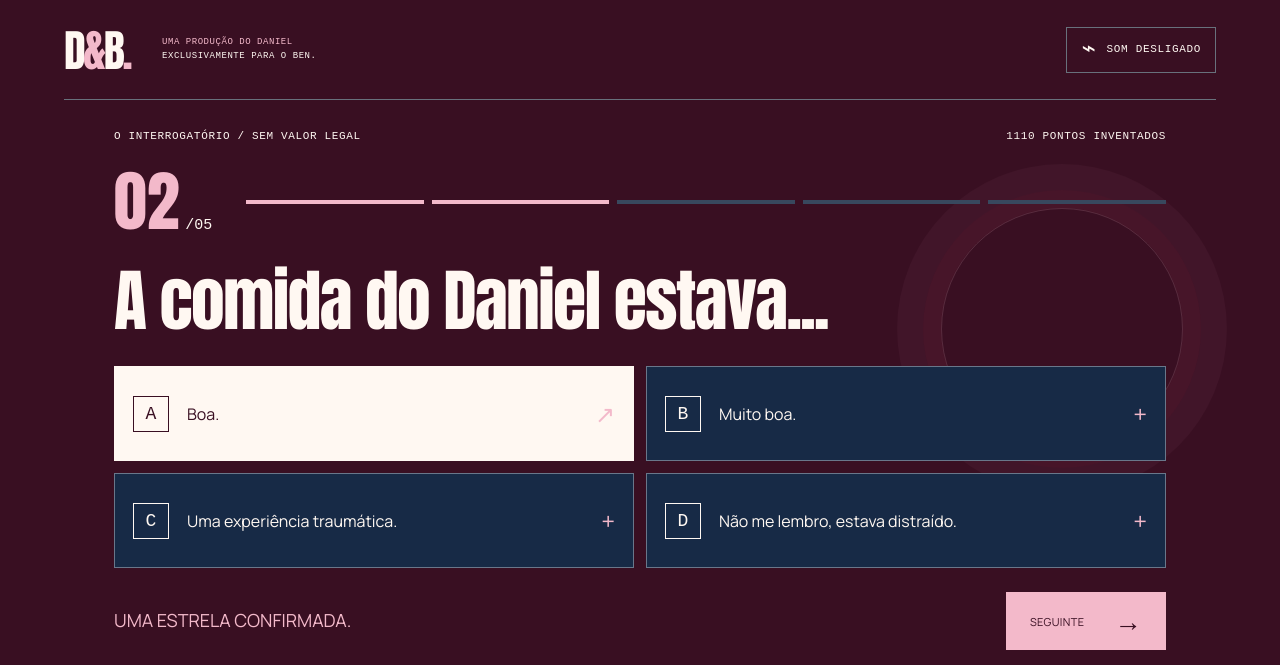
Scenario: O Interrogatório › feedback da pergunta 4, resposta 3
Earlier steps of the test are not shown.
Later steps or results of the test are not shown.
Click the button "SEGUINTE →" at (1086, 621), box [1006,592,1166,650]
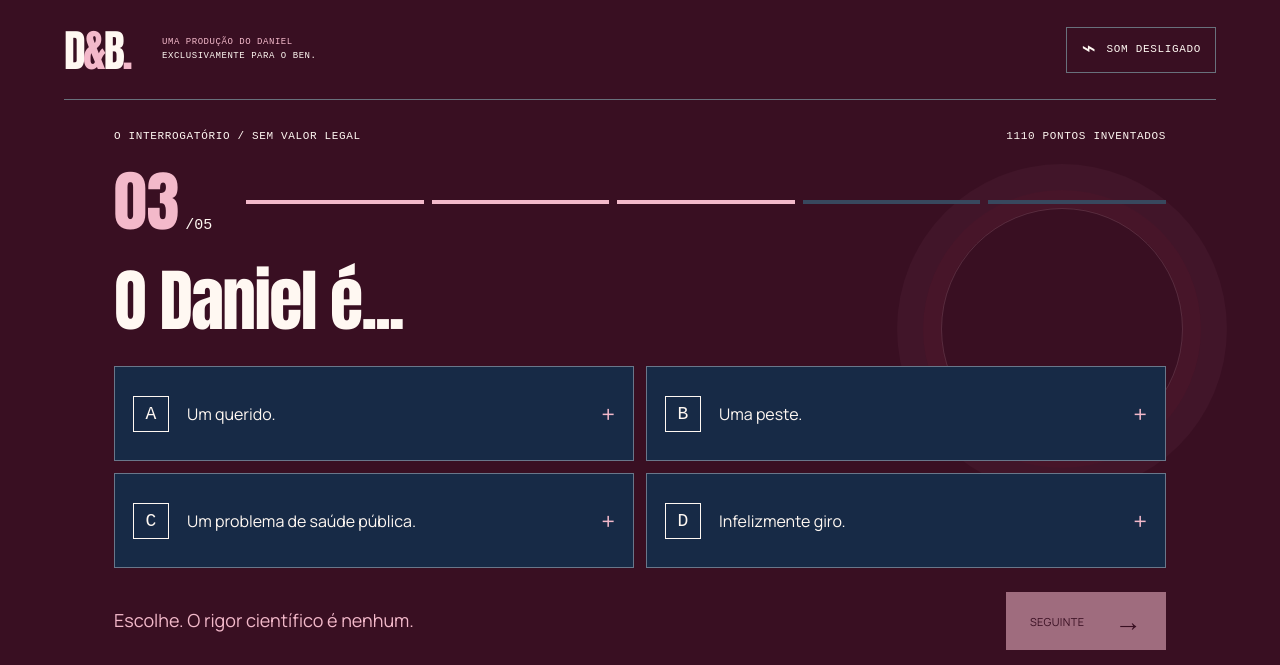
Click the radio button labelled "A Um querido. +" at (151, 414), box [114,366,634,461]
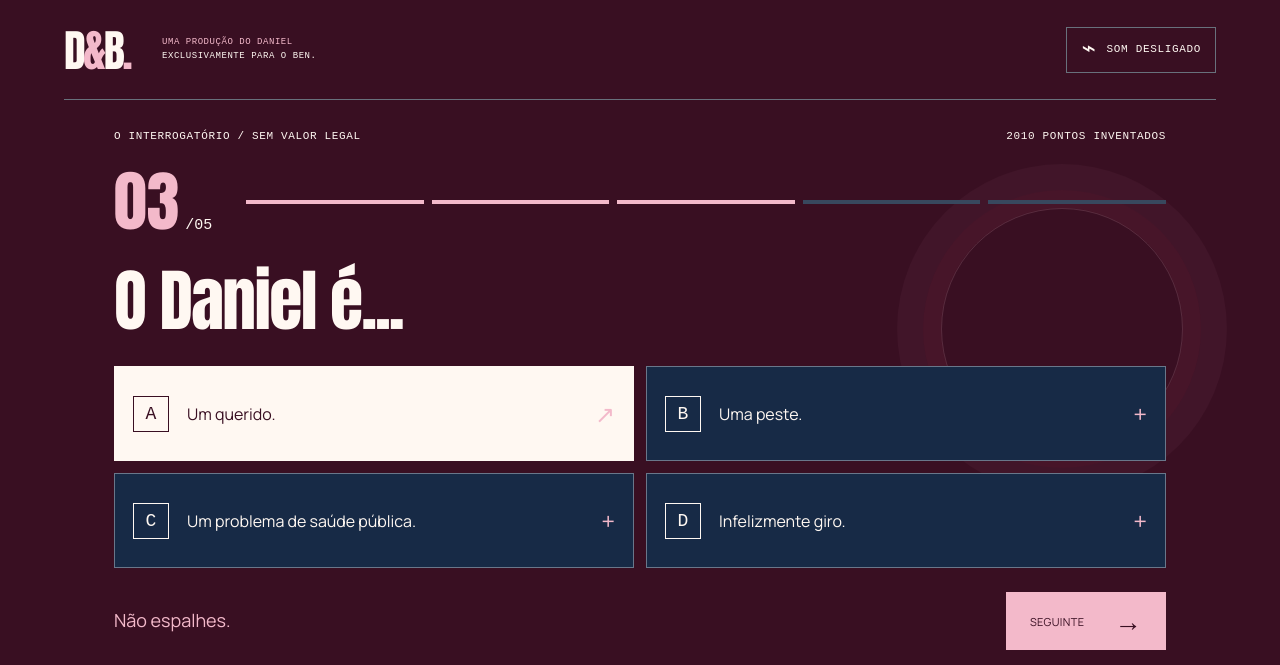
Click the button "SEGUINTE →" at (1086, 621), box [1006,592,1166,650]
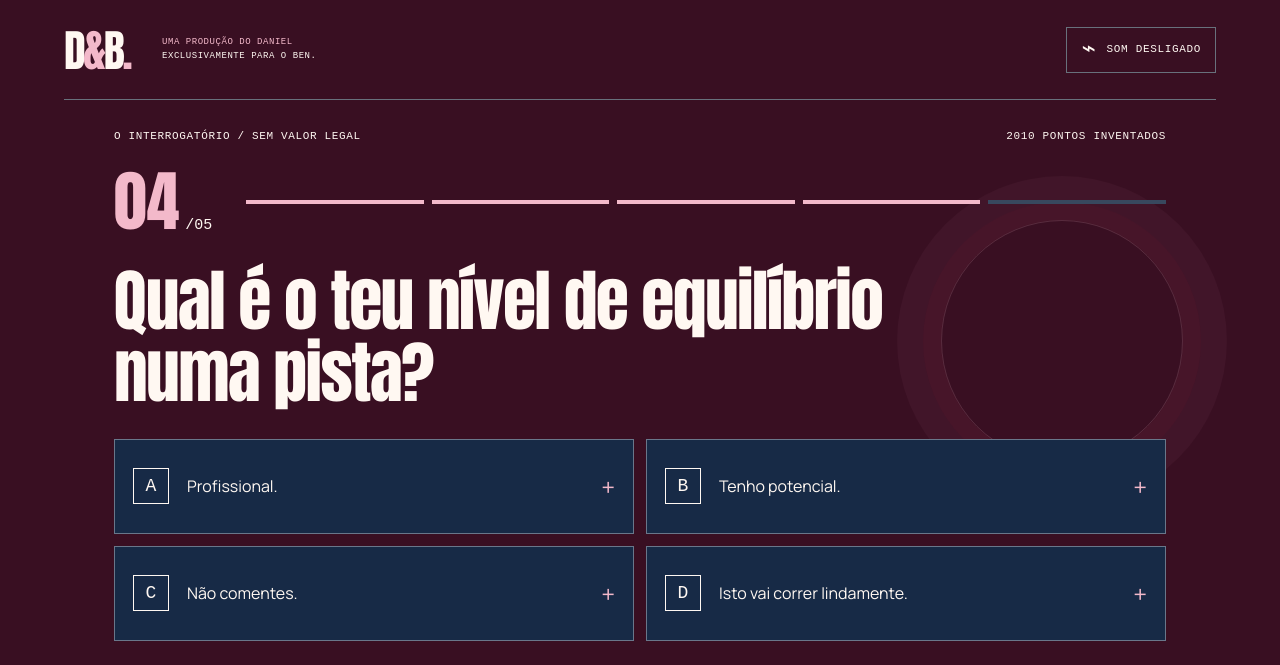
Click the radio button labelled "A Profissional. +" at (151, 486), box [114,439,634,534]
(page scrolled)
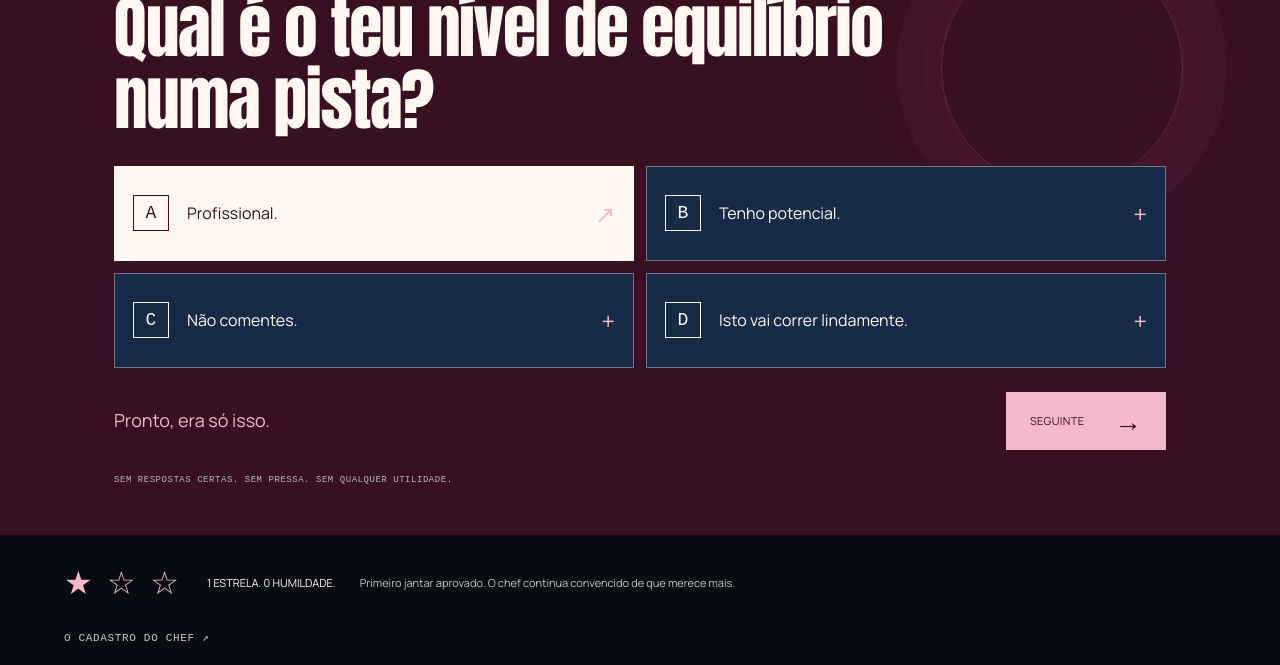
Click the button "SEGUINTE →" at (1086, 421), box [1006,392,1166,450]
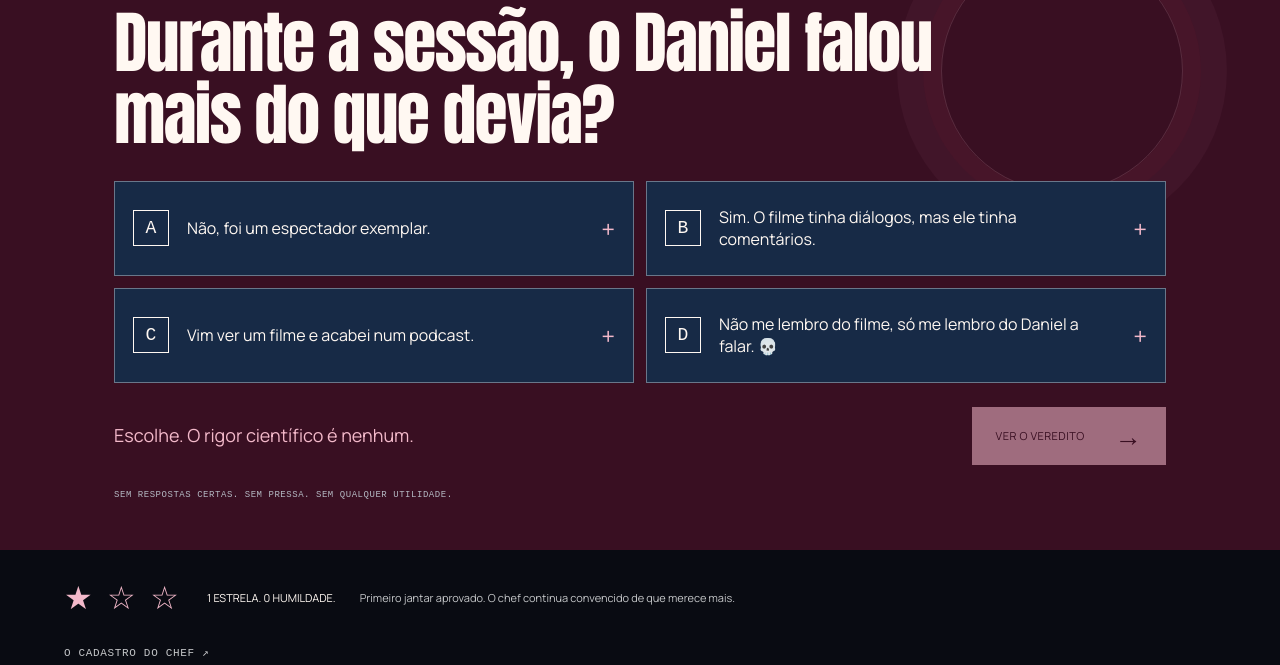
Click the 4th radio button at (906, 335), box [646,288,1166,383]
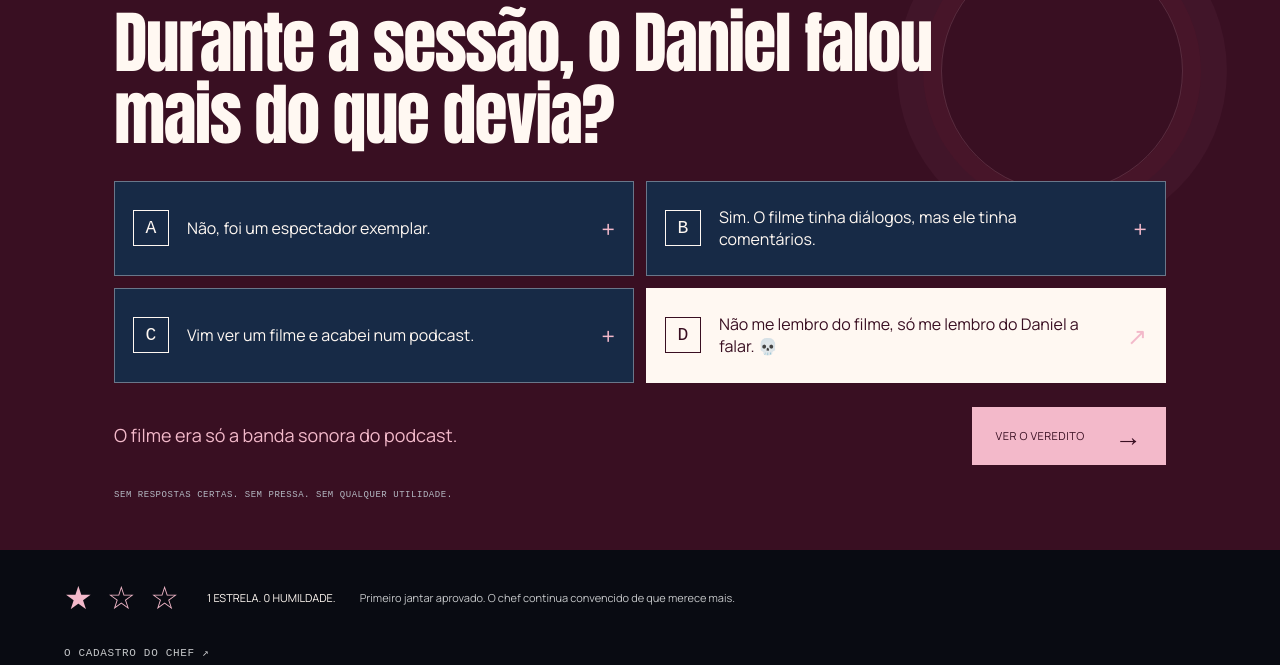
Check: the radio button labelled "A Não, foi um espectador exemplar. +" is enabled, box [114,181,634,276]
Check: the radio button labelled "B Sim. O filme tinha diálogos, mas ele tinha comentários. +" is enabled, box [646,181,1166,276]
Check: the message reads "O filme era só a banda sonora do podcast.", box [114,423,457,447]
